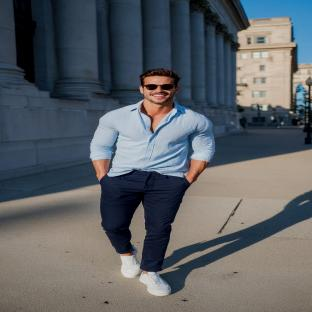Human: (90, 68, 214, 296)
